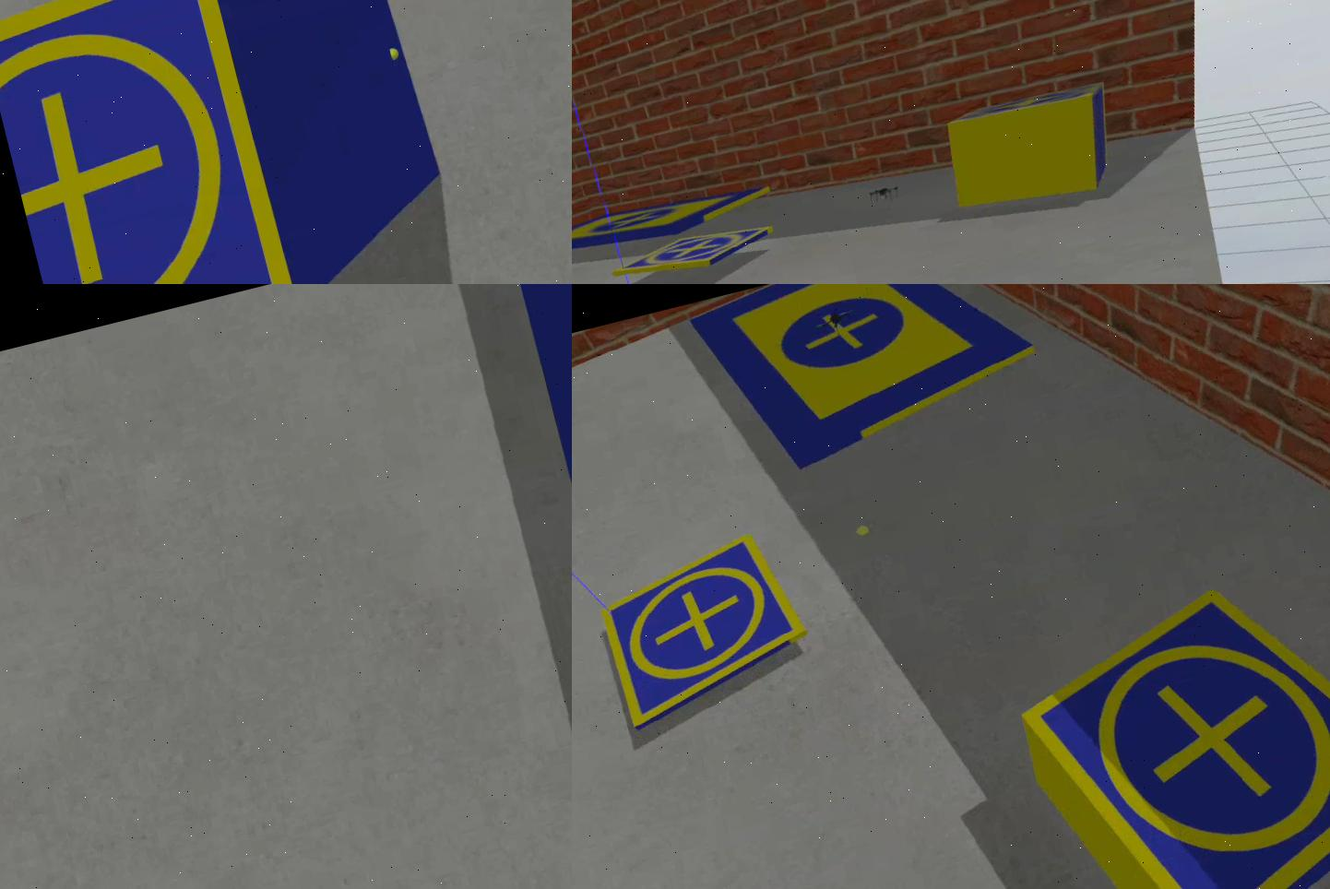large_base: (685, 285, 1051, 484), (573, 168, 783, 283)
small_base: (1003, 543, 1330, 889), (1, 1, 312, 285), (585, 531, 825, 738), (610, 214, 779, 285), (944, 73, 1112, 141)
